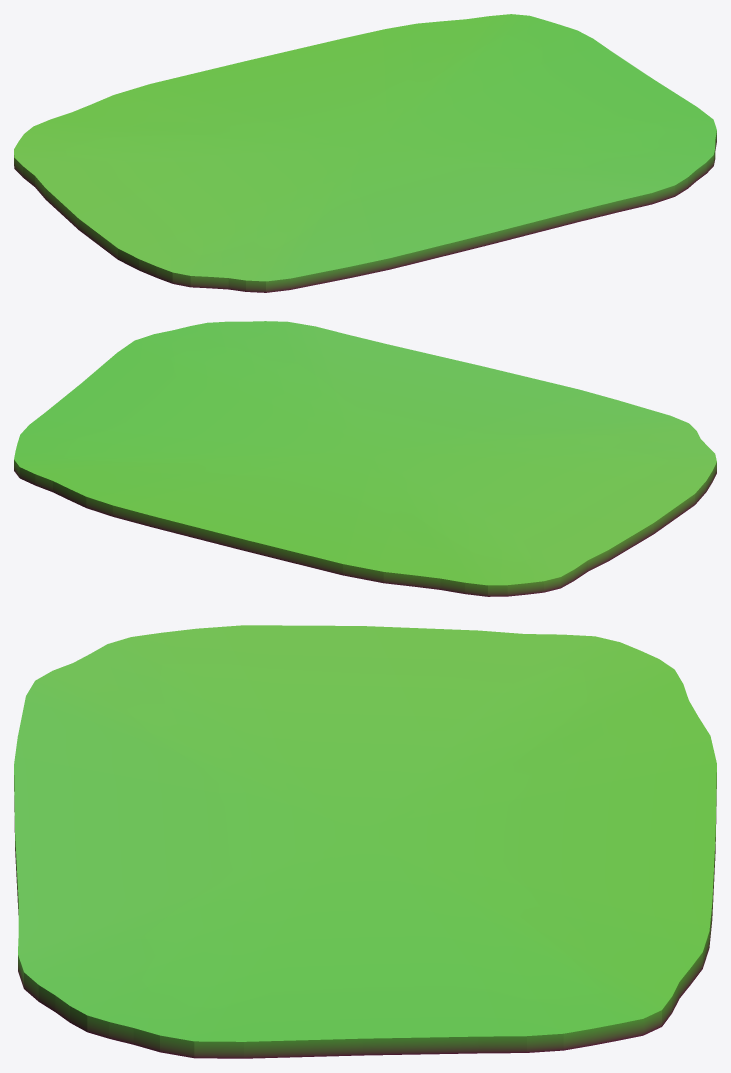
File: Clearing.fbx
The picture shows the model from 3 angles, top to bottom: view 1: azimuth 30°, elevation 25°; view 2: azimuth 150°, elevation 25°; view 3: azimuth 270°, elevation 25°; orthographic projection. The views are drawn at different scales.
Parts seen in each view (by area): view 1: Clearing; view 2: Clearing; view 3: Clearing.
Boxes of the visible parts, box(x1,y1,x2,y2) form: Clearing: box(14, 14, 716, 292); Clearing: box(14, 321, 716, 596); Clearing: box(14, 625, 716, 1058).
Size of the model in its own units: 18.58 by 0.35 by 13.25.
